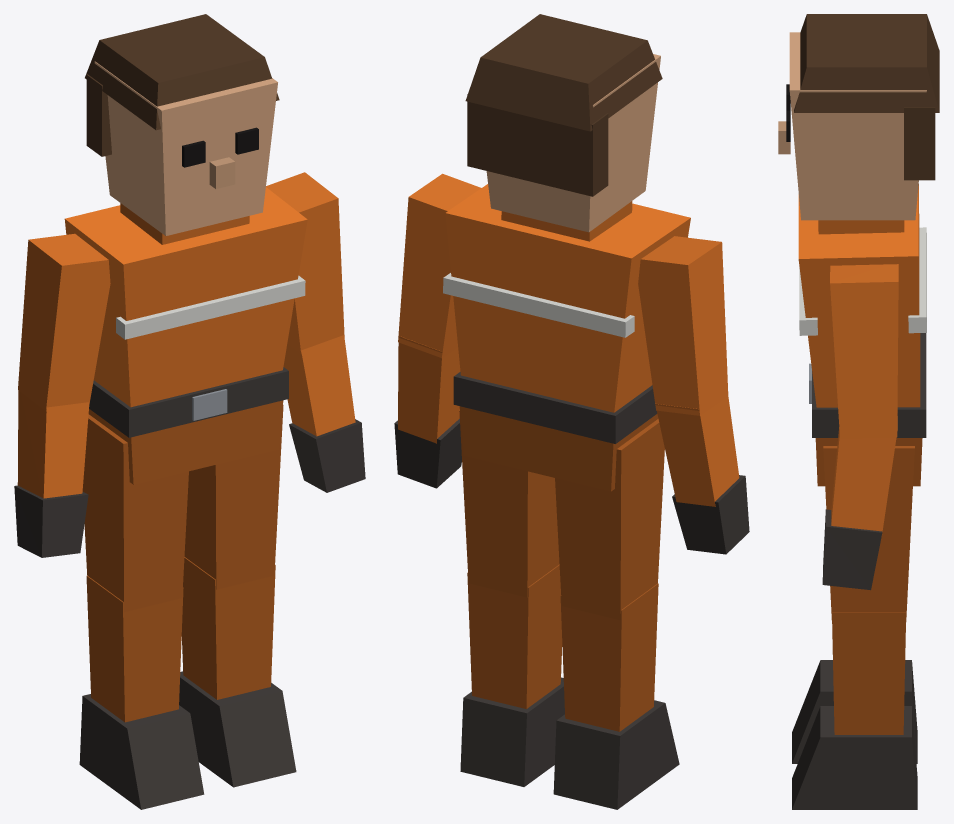
Rendered from character_pose_1.obj.
3 views of the same model, side by side, from view 1: azimuth 30°, elevation 25°; view 2: azimuth 150°, elevation 25°; view 3: azimuth 270°, elevation 25° (orthographic). The views are drawn at different scales.
Bounding box in the file's own units: 0.67 × 1.41 × 0.2825.
